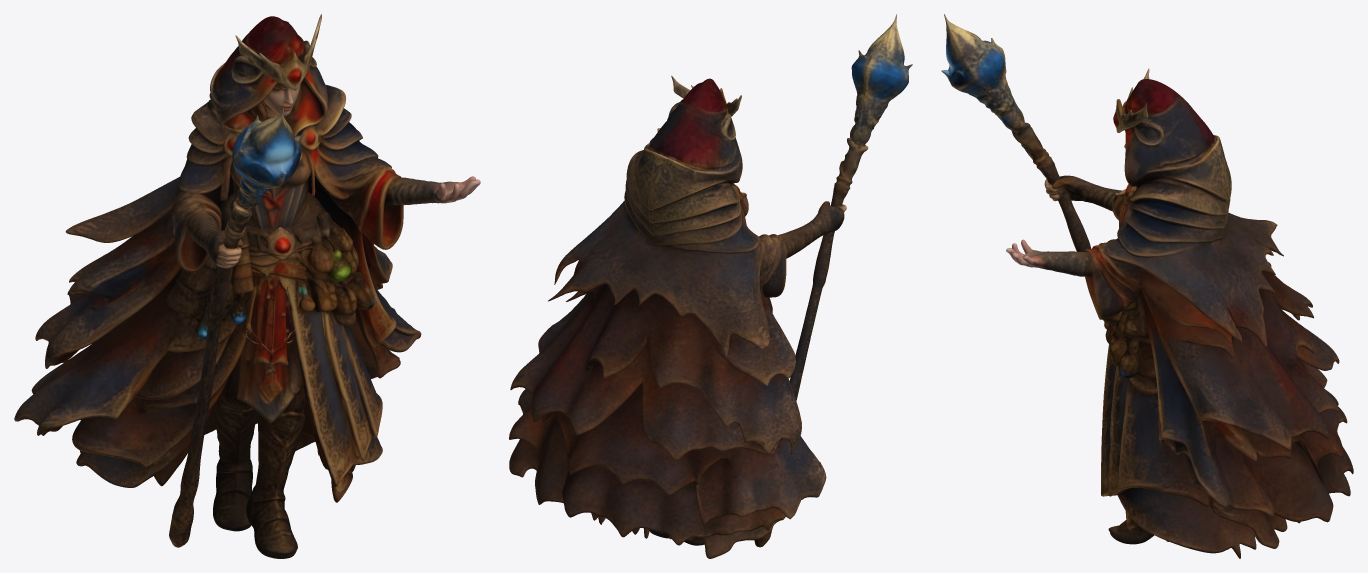
The model's file is mage_full_female_01.glb.
3 renders of one model, left to right at view 1: azimuth 30°, elevation 25°; view 2: azimuth 150°, elevation 25°; view 3: azimuth 270°, elevation 25°, orthographic. The views are drawn at different scales.
Parts seen in each view (by area): view 1: material; view 2: material; view 3: material.
Boxes of the visible parts, <box> form: material: <box>14,14,480,558</box>; material: <box>509,14,912,558</box>; material: <box>941,14,1353,558</box>.
Bounding box in the file's own units: 0.6366 × 0.8977 × 0.6966.
Materials: 1 (1 with a texture image).
